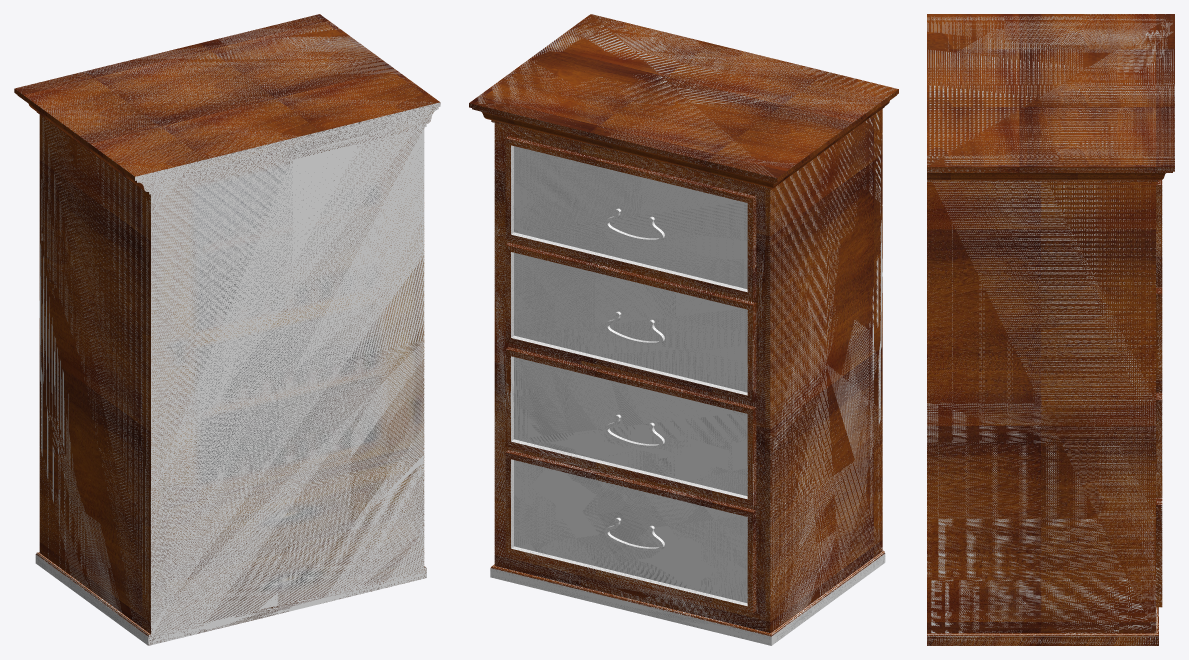
The picture shows the model from 3 angles, left to right: view 1: azimuth 30°, elevation 25°; view 2: azimuth 150°, elevation 25°; view 3: azimuth 270°, elevation 25°; orthographic projection. The views are drawn at different scales.
Parts seen in each view (by area): view 1: mesh1_mesh1-geometry; view 2: mesh1_mesh1-geometry; view 3: mesh1_mesh1-geometry.
Part boxes in pixels (left/top/right/bottom): mesh1_mesh1-geometry: left=14, top=14, right=440, bottom=645; mesh1_mesh1-geometry: left=469, top=14, right=898, bottom=645; mesh1_mesh1-geometry: left=927, top=14, right=1174, bottom=645.
Size of the model in its own units: 0.5232 by 0.7734 by 0.358.
